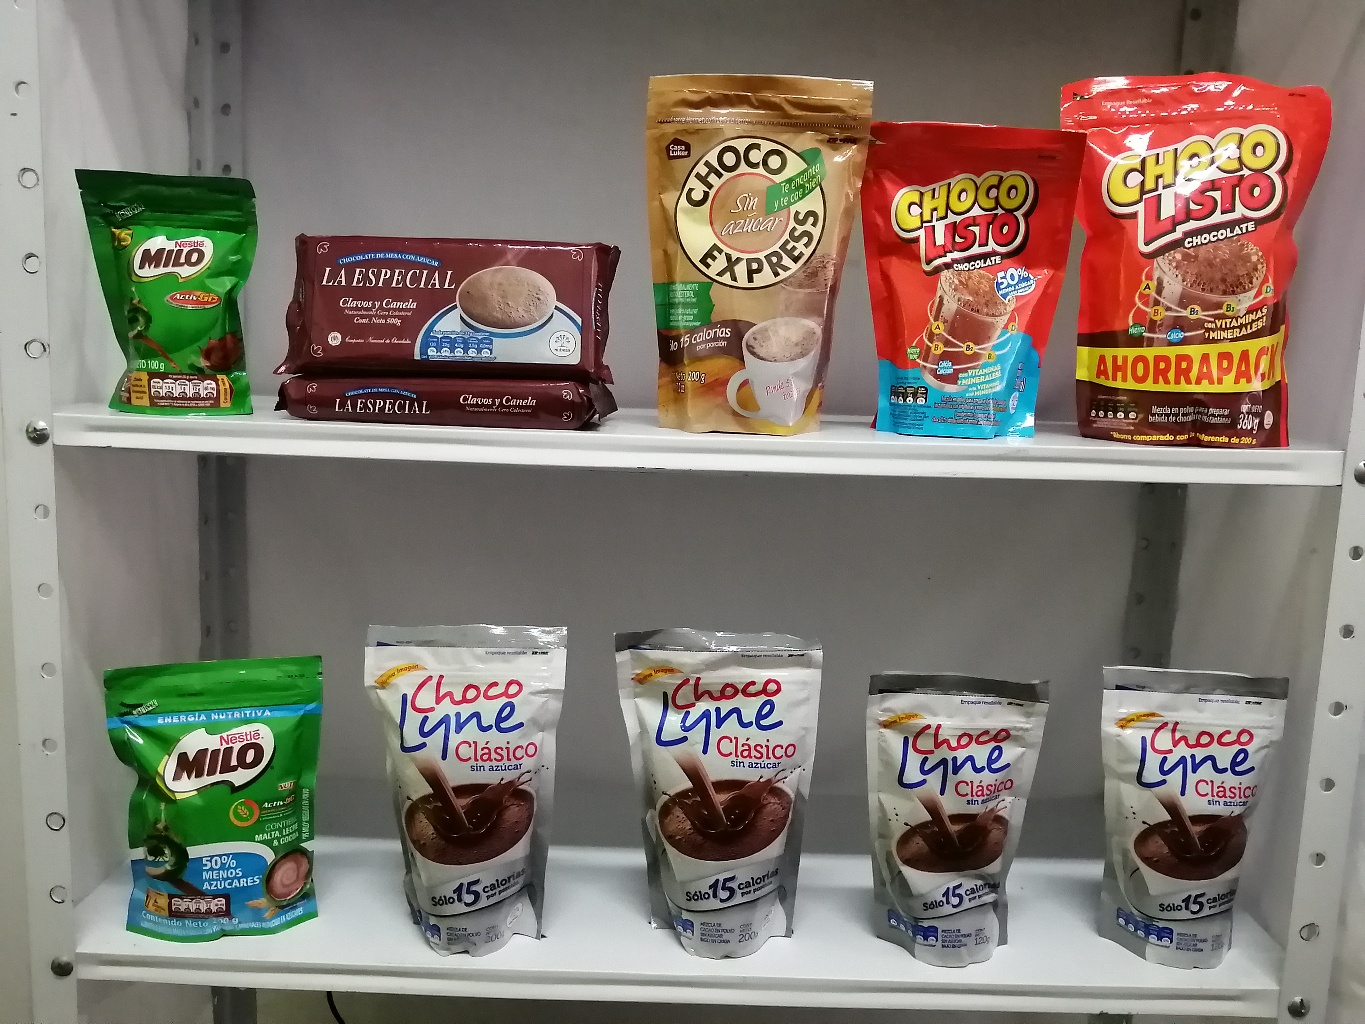COL0170103DYP36000: (1061, 70, 1332, 451)
COL0170104DYP20000: (875, 118, 1089, 440)
COL0170203DYP10000: (79, 163, 269, 419)
COL0170205DYP20000: (88, 646, 333, 940)
